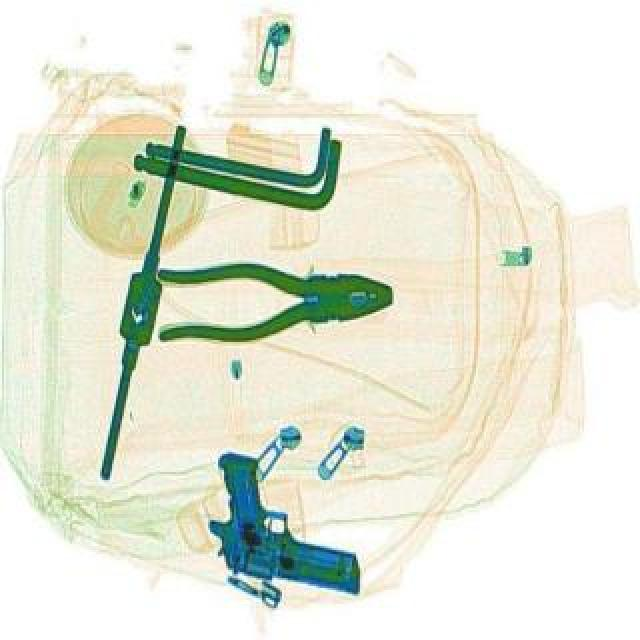gun: (190, 452, 382, 600)
wrench: (150, 256, 394, 352)
